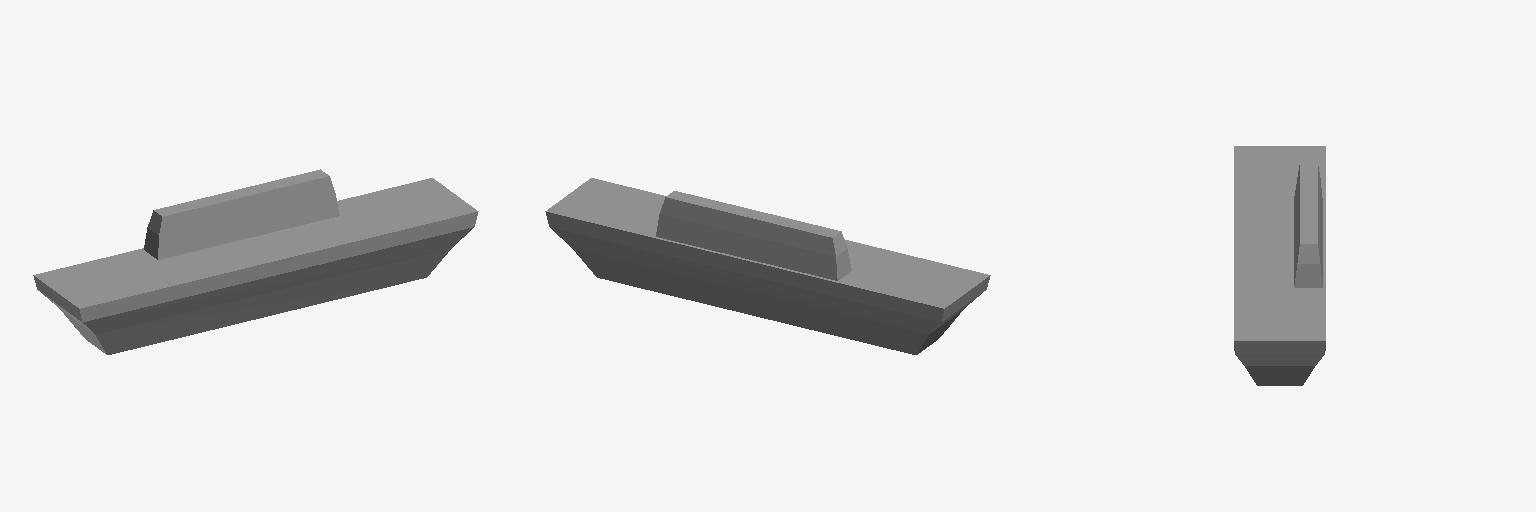
File: carrier.obj
The picture shows the model from 3 angles: view 1: azimuth 30°, elevation 25°; view 2: azimuth 150°, elevation 25°; view 3: azimuth 270°, elevation 25°; orthographic projection.
Visible parts, largest first — view 1: Cube; view 2: Cube; view 3: Cube.
Boxes of the visible parts, box(x1,y1,x2,y2) form: Cube: box(33, 169, 478, 354); Cube: box(545, 178, 990, 354); Cube: box(1234, 146, 1325, 385).
Size of the model in its own units: 5 by 1.25 by 1.